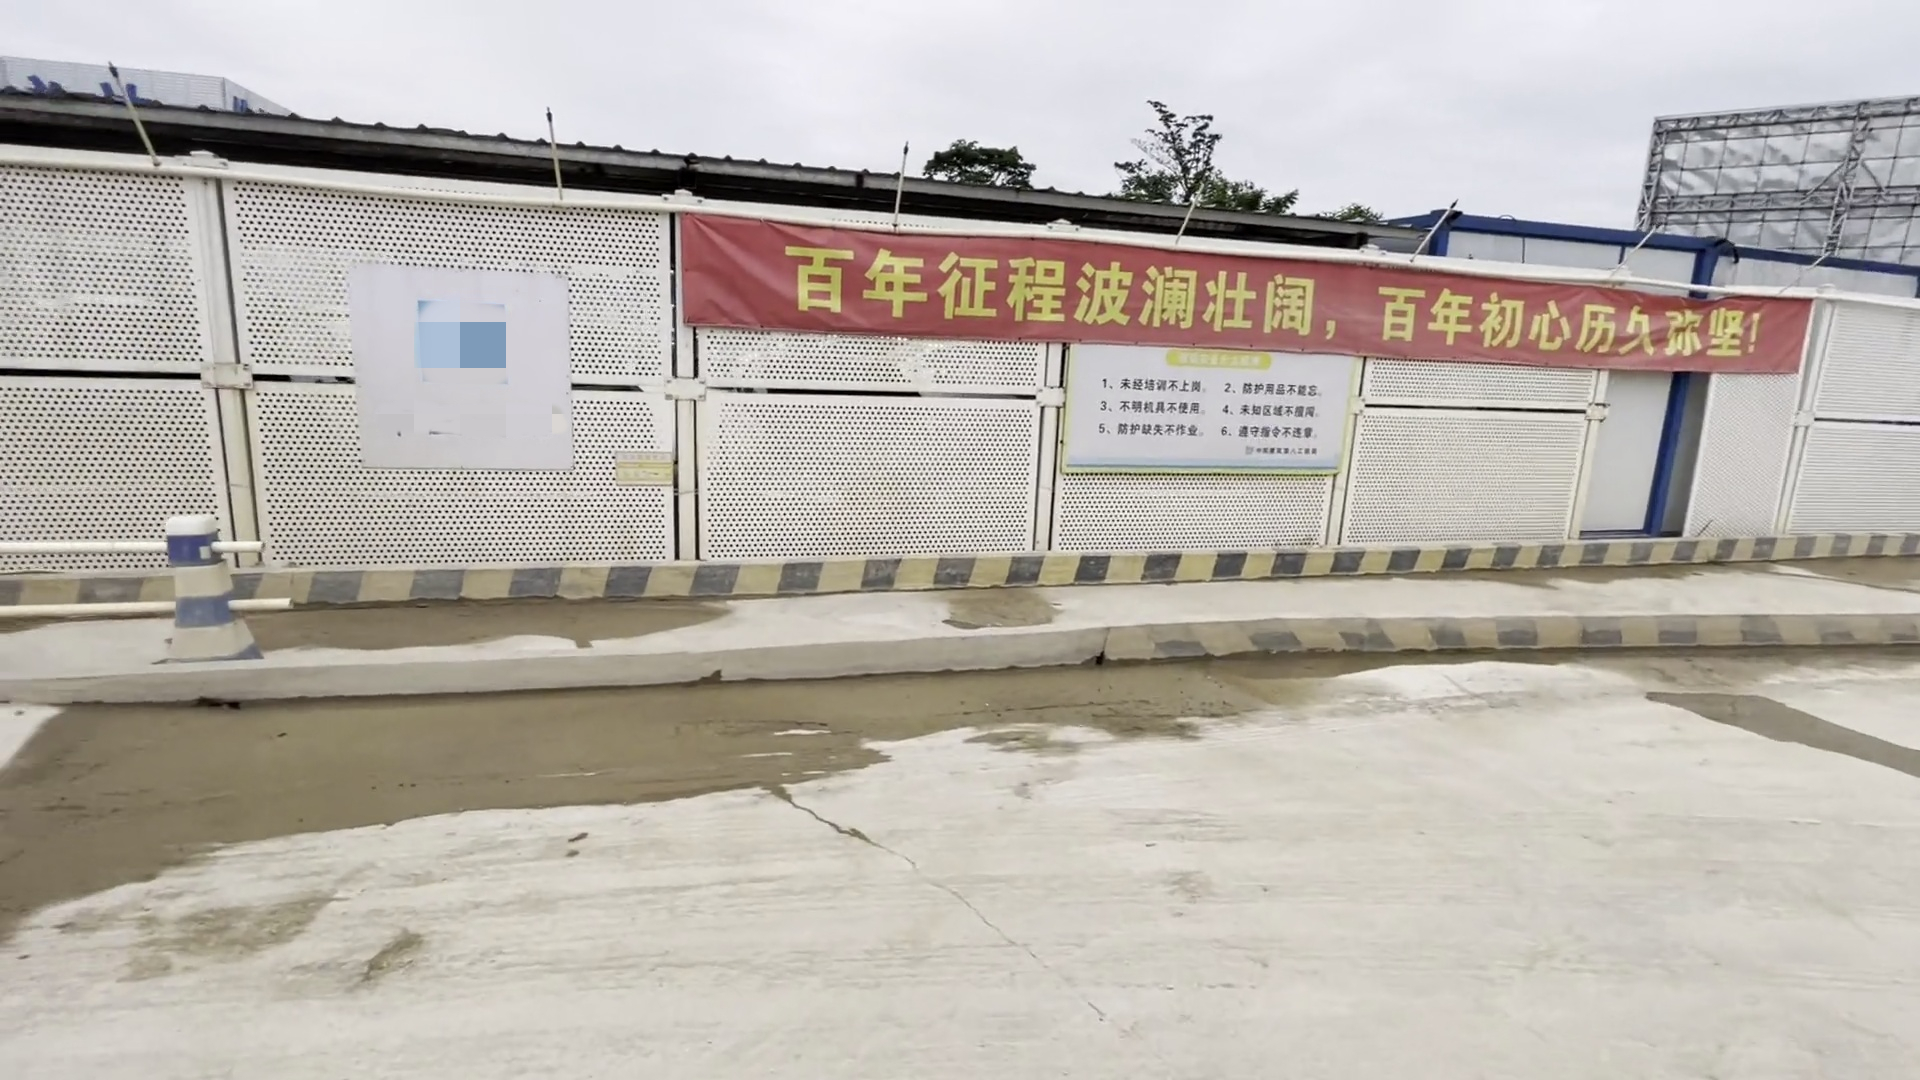slogan: (688, 214, 1782, 375), (1055, 342, 1332, 483)
